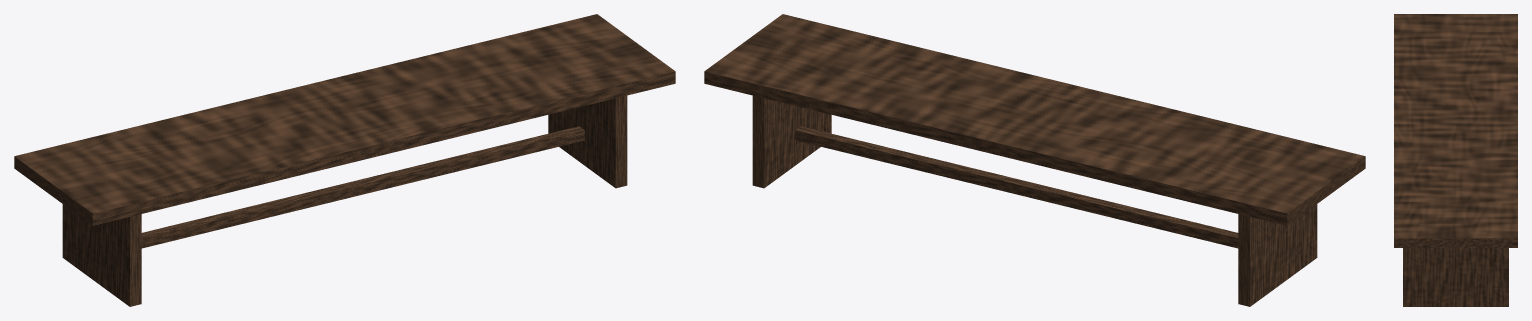
File: long-table.glb
3 views of the same model, side by side, from view 1: azimuth 30°, elevation 25°; view 2: azimuth 150°, elevation 25°; view 3: azimuth 270°, elevation 25° (orthographic). The views are drawn at different scales.
Bounding box in the file's own units: 6 × 1.06 × 1.4.
1 material, 1 textured.
